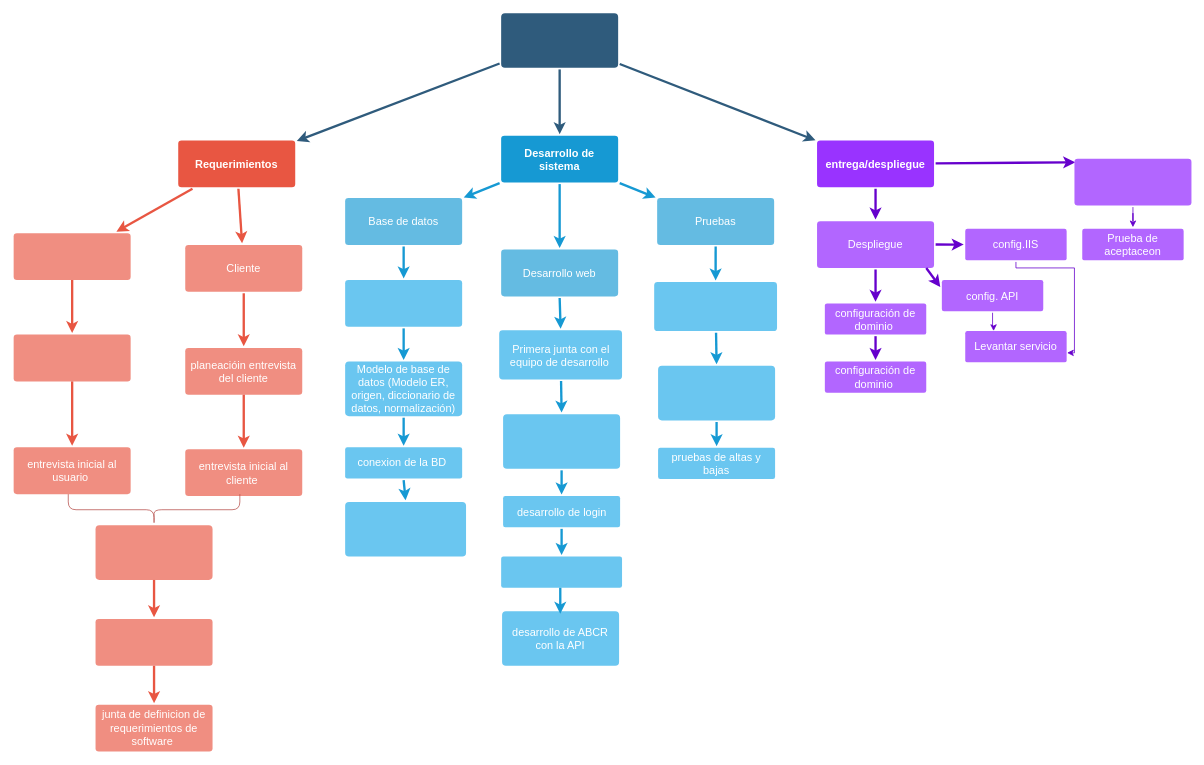
This 1204x765 diagram has some shape labels left out. The centre of each missing label's shape, as x and y in pixels:
analisis de la entrevista y la propuesta de requerimientos: (153,552)
conexión con la API: (561,571)
definicion de entornos y lenguajes: (561,441)
definicion del tipo de BD: (403,303)
Entrega: (1132,181)
junta para definicion de req.cliente y de usuario: (153,642)
planeacioin entrevista de usuarios: (71,357)
Primera junta con el equipo de QA: (715,306)
Prueba de conexion: (716,392)
Pruebas(conexión, incercion, actualizacion,seguridad, etc): (405,529)
Sistema de citas: (559,40)
Usuario: (71,256)
